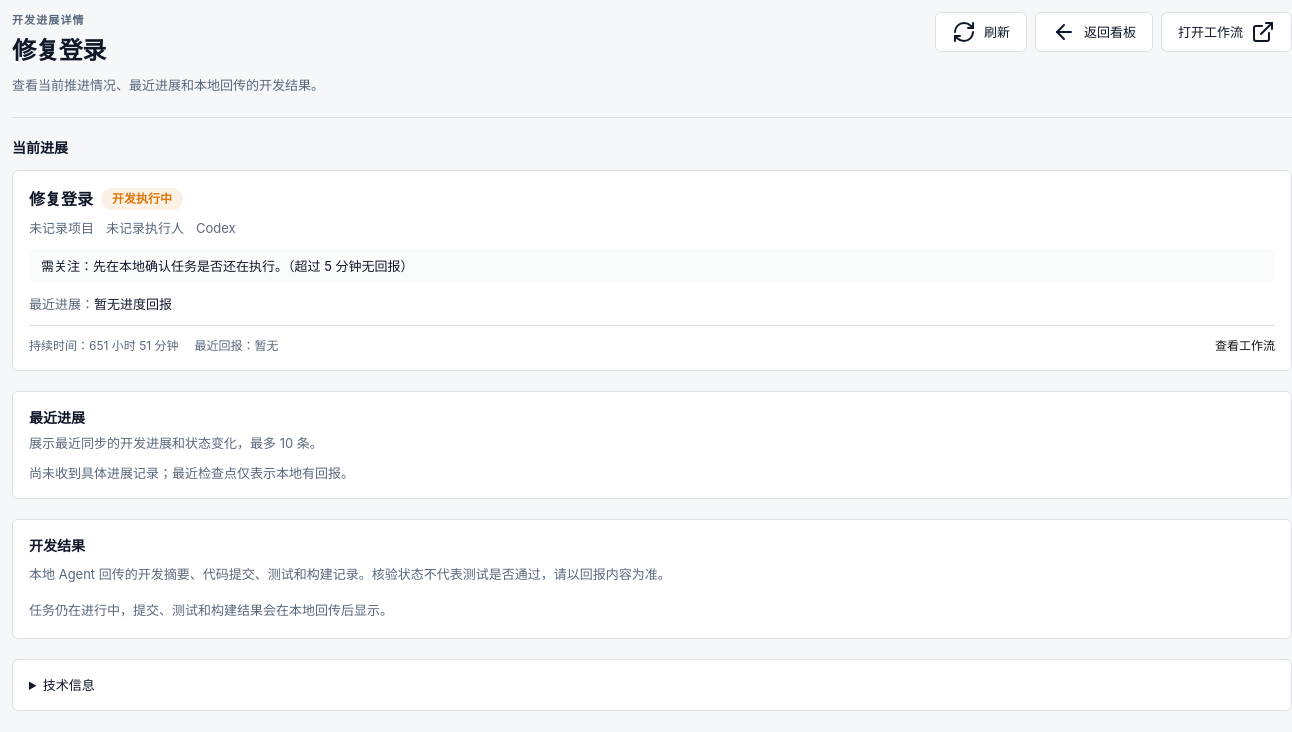
it: 没有回传结果时按任务状态解释，缺少进展明确提示未知
The width and height of the screenshot is (1292, 732).
Expected: the element named "最近进展" shows "尚未收到具体进展记录", [29,464,354,480]
Click the button "刷新" at (981, 32), box [935,12,1027,52]
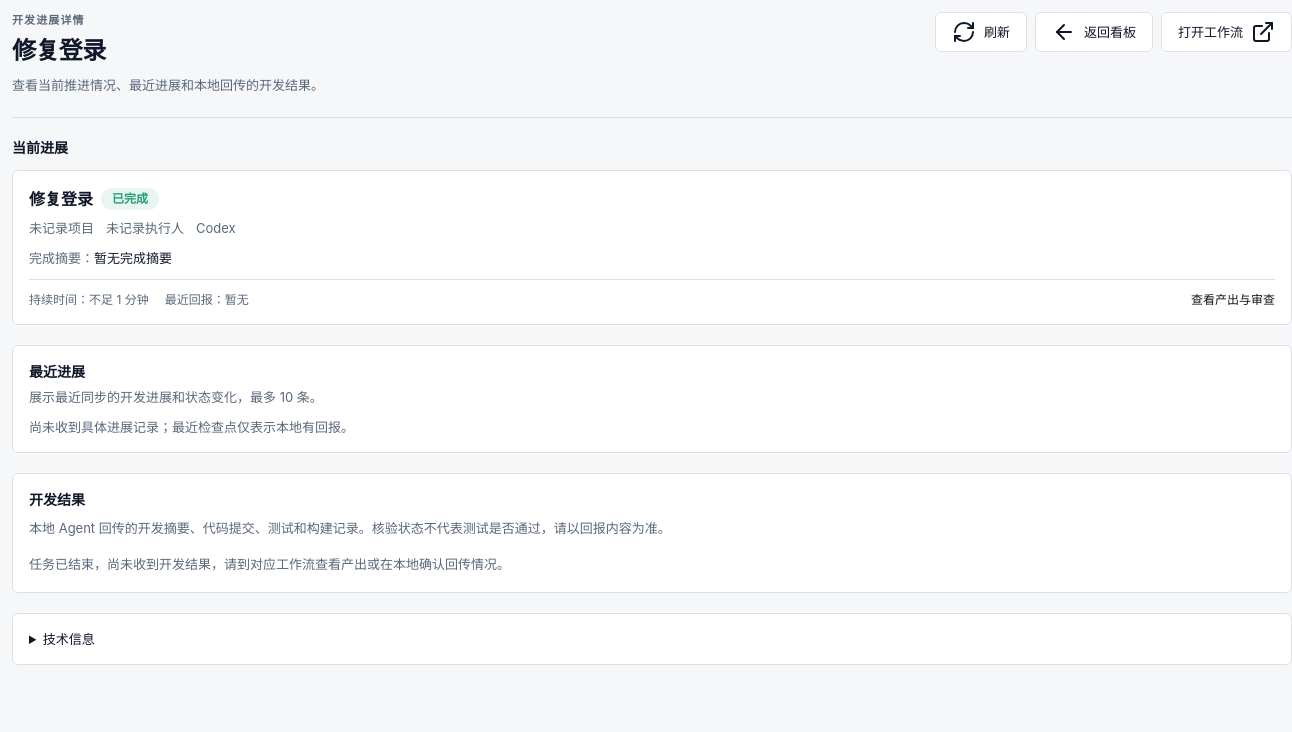
Expected: the text "任务已结束，尚未收到开发结果，请到对应工作流查看产出或在本地确认回传情况。" is shown, [29,556,510,572]
